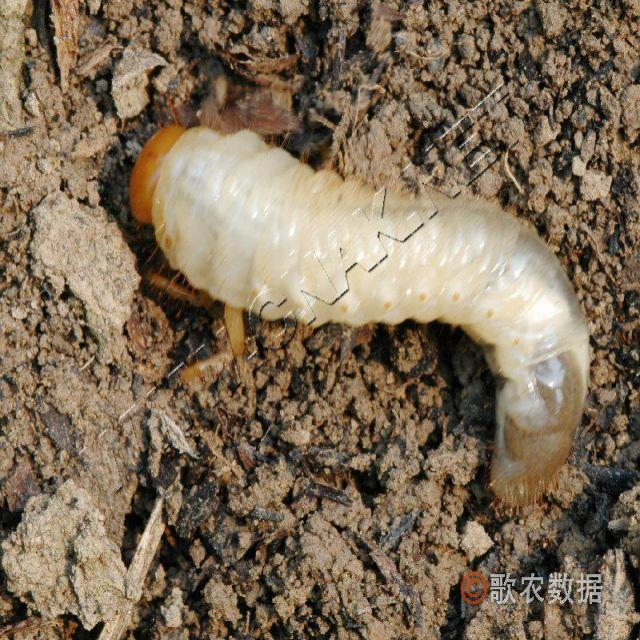Grub-Adult-: (113, 89, 600, 519)
